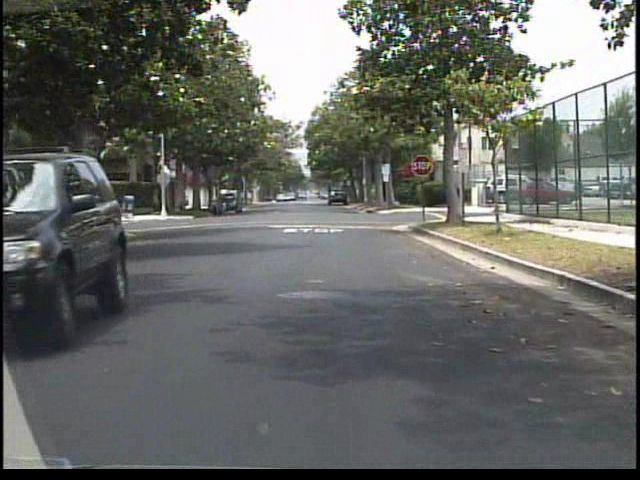person: (212, 178, 235, 219)
